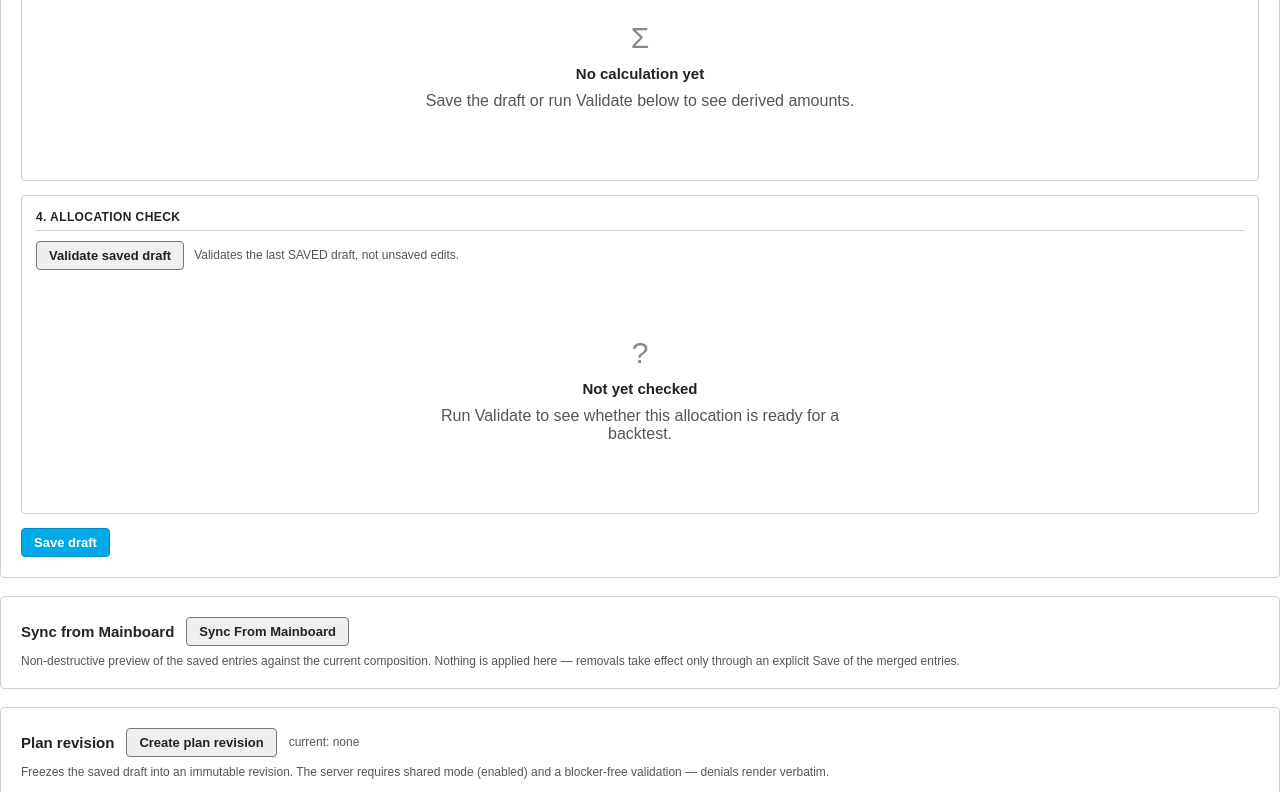
Test: Portfolio / Equity Allocation page › previews sync-from-mainboard as a pure read with a destructive-removal hint
(page scrolled)
What coordinates should you click on to do the following:
click the button "Sync From Mainboard"
I would click on:
 (268, 631)
Its box is x1=186 y1=617 x2=349 y2=646.
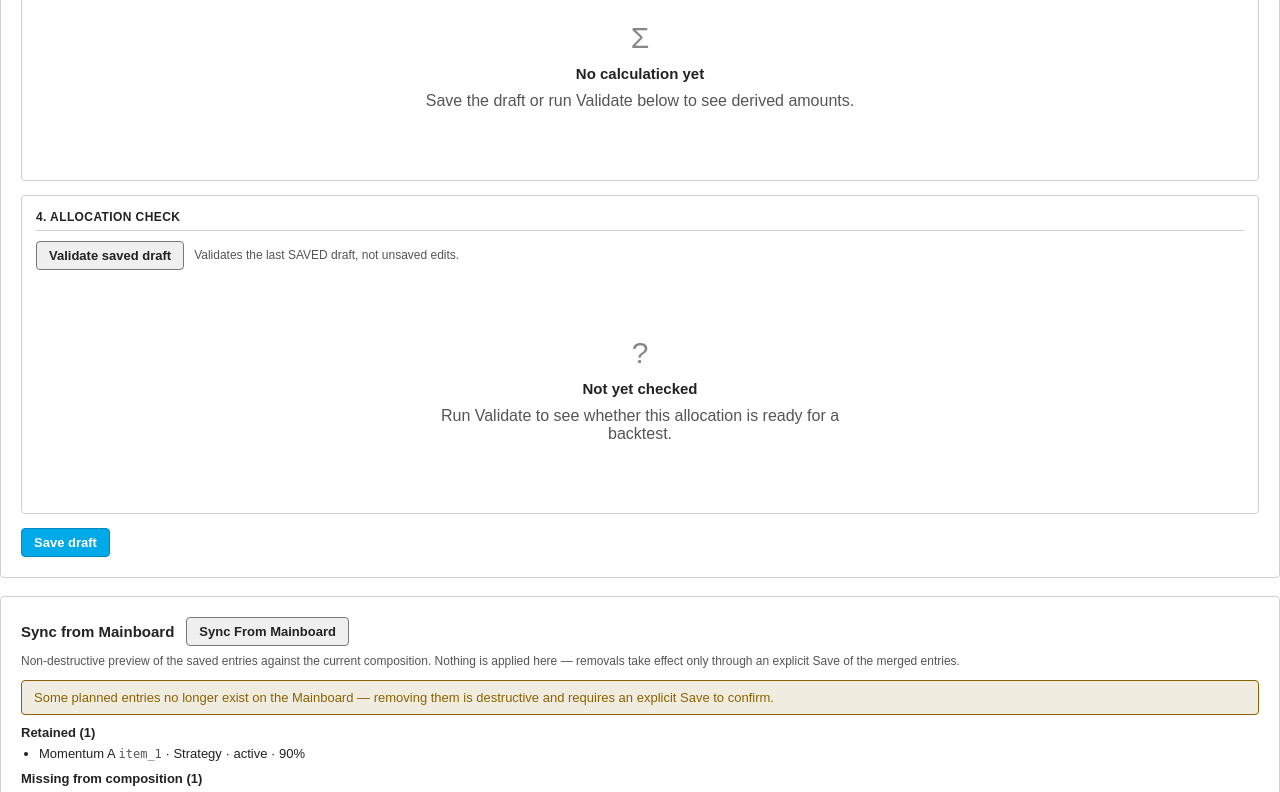
Check: the heading "Retained (1)" is shown, box x1=21 y1=725 x2=95 y2=740
Check: the heading "Missing from composition (1)" is shown, box x1=21 y1=771 x2=202 y2=786
Check: the text "removing them is destructive" is shown, box x1=34 y1=690 x2=774 y2=705
